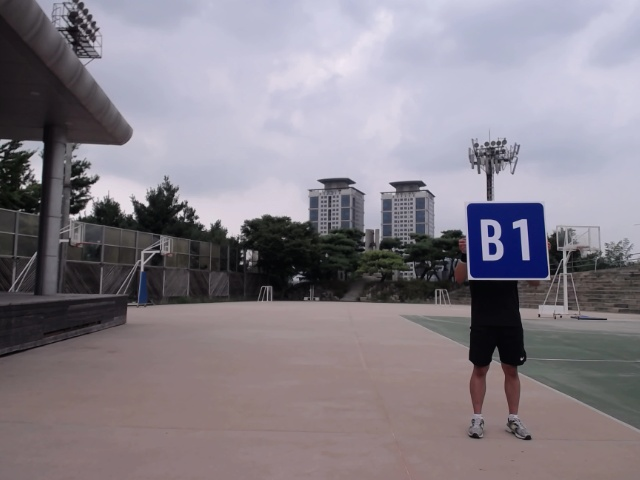delivery_b1: (465, 200, 550, 280)
